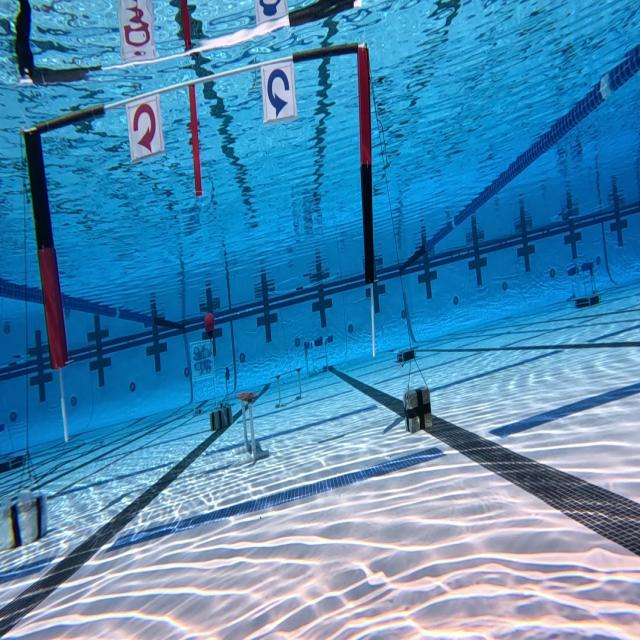blue_side: (258, 52, 298, 134)
red_side: (124, 95, 170, 166)
